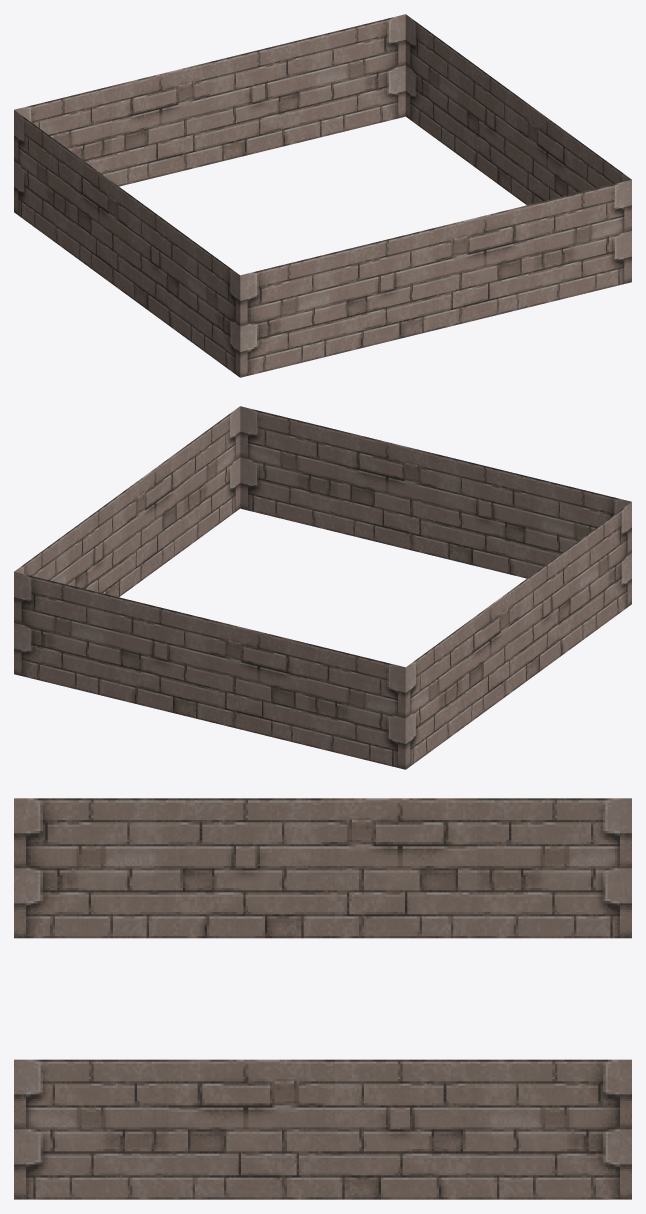
The model's file is stone_square_1m.glb.
3 views of the same model, one above another, from view 1: azimuth 30°, elevation 25°; view 2: azimuth 150°, elevation 25°; view 3: azimuth 270°, elevation 25° (orthographic). The views are drawn at different scales.
Parts seen in each view (by area): view 1: stone_square_1m; view 2: stone_square_1m; view 3: stone_square_1m.
Boxes of the visible parts, <box> form: stone_square_1m: <box>14,14,631,377</box>; stone_square_1m: <box>14,406,631,769</box>; stone_square_1m: <box>14,798,631,1199</box>.
Size of the model in its own units: 4 by 1 by 4.
1 material, 1 textured.
